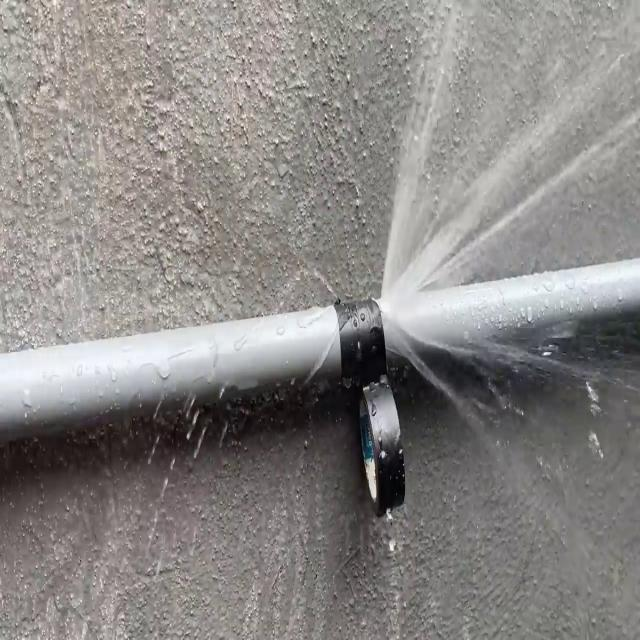leak: (375, 0, 640, 640)
